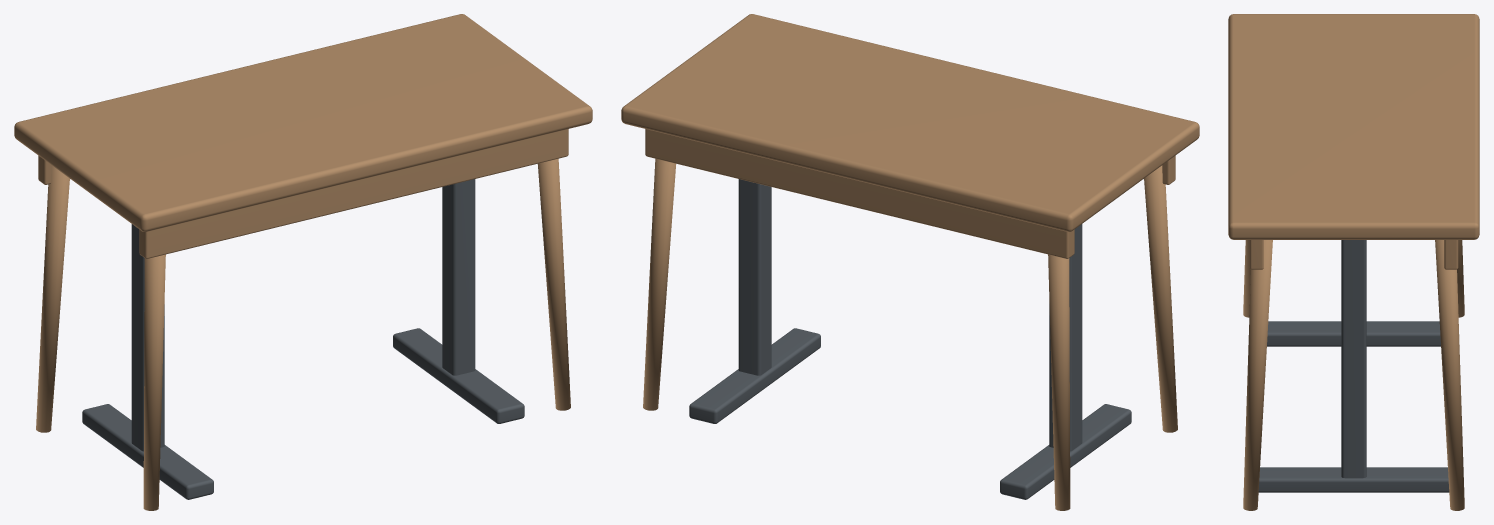
Rendered from atelier-standing-desk.glb.
3 renders of one model, left to right at view 1: azimuth 30°, elevation 25°; view 2: azimuth 150°, elevation 25°; view 3: azimuth 270°, elevation 25°, orthographic. The views are drawn at different scales.
Parts seen in each view (by area): view 1: legs.045, metal.015; view 2: legs.045, metal.015; view 3: legs.045, metal.015.
Part boxes in pixels (left/top/right/bottom): legs.045: left=14, top=14, right=592, bottom=510; metal.015: left=82, top=179, right=524, bottom=499; legs.045: left=621, top=14, right=1199, bottom=510; metal.015: left=689, top=179, right=1131, bottom=499; legs.045: left=1228, top=14, right=1479, bottom=510; metal.015: left=1258, top=240, right=1449, bottom=492.
Bounding box in the file's own units: 1.6 × 1.04 × 0.8.
